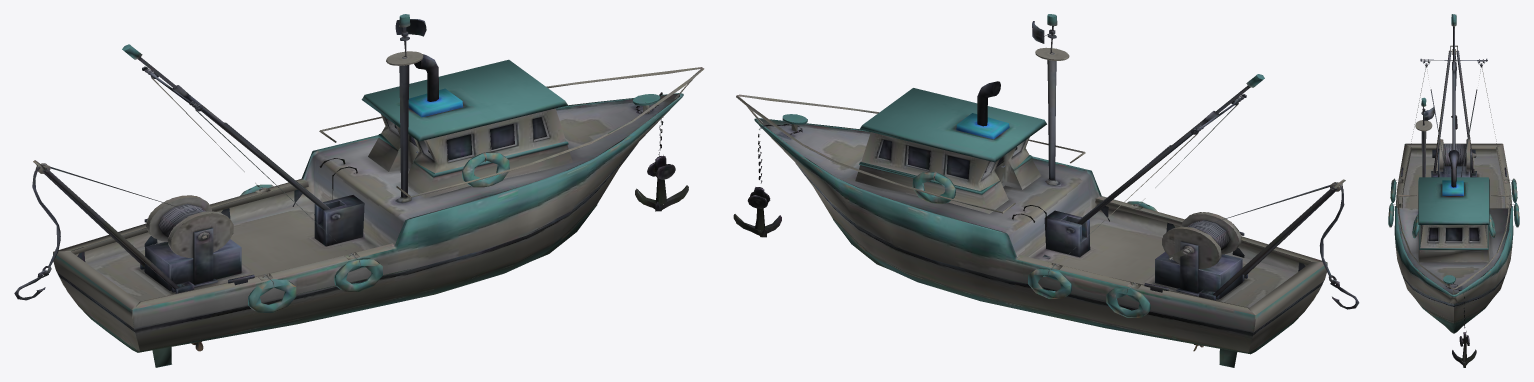
The model's file is a24_boat_a.glb.
3 renders of one model, left to right at view 1: azimuth 30°, elevation 25°; view 2: azimuth 150°, elevation 25°; view 3: azimuth 270°, elevation 25°, orthographic. The views are drawn at different scales.
Visible parts, largest first — view 1: body; view 2: body; view 3: body.
Boxes of the visible parts, <box> form: body: <box>14,14,704,367</box>; body: <box>733,14,1359,367</box>; body: <box>1388,14,1519,367</box>.
Bounding box in the file's own units: 1 × 0.4573 × 0.2673.
Materials: 1 (1 with a texture image).
